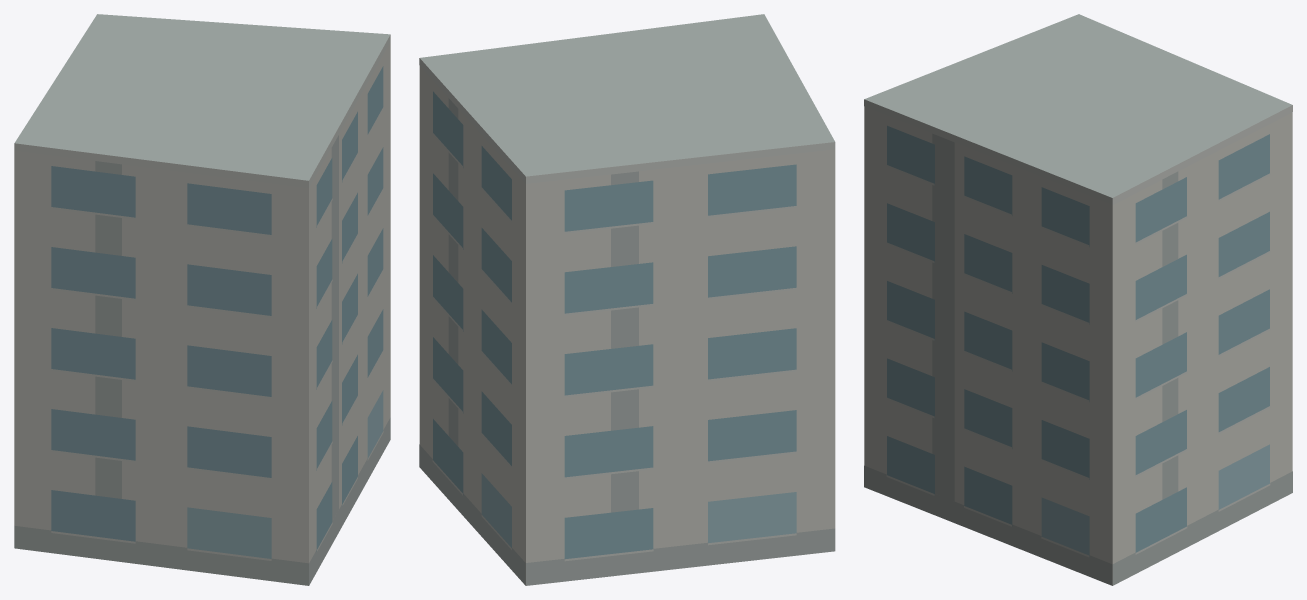
The model's file is survey-upis-32941398.glb.
3 views of the same model, side by side, from view 1: azimuth 30°, elevation 25°; view 2: azimuth 150°, elevation 25°; view 3: azimuth 270°, elevation 25° (orthographic). The views are drawn at different scales.
Visible parts, largest first — view 1: survey-upis-32941398.tmp; view 2: survey-upis-32941398.tmp; view 3: survey-upis-32941398.tmp.
Part boxes in pixels (x1,y1,x2,y2): survey-upis-32941398.tmp: (14, 14, 390, 585); survey-upis-32941398.tmp: (419, 14, 835, 585); survey-upis-32941398.tmp: (864, 14, 1292, 585).
Size of the model in its own units: 13.54 by 13.3 by 13.33.
